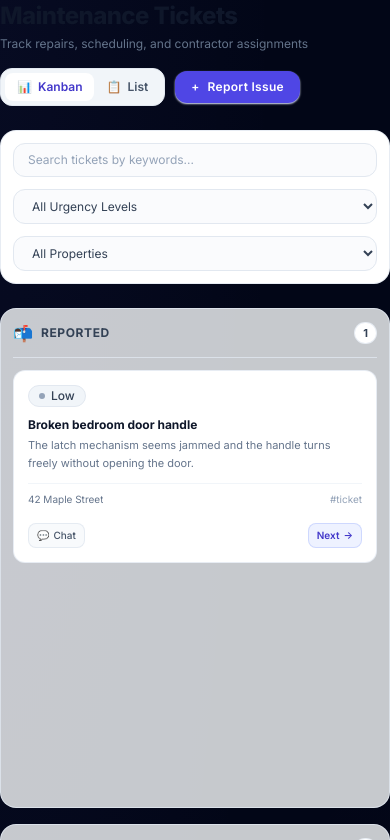
Test: Tickets, Media & Chat System Tests › TicketsPage View › renders tickets list and responds to search filter
The image size is (390, 840).
// Filter input
In the field with placeholder "Search tickets by keywords...": x=195, y=160 [13,143,377,177], type "non-existent-search-term-xyz"
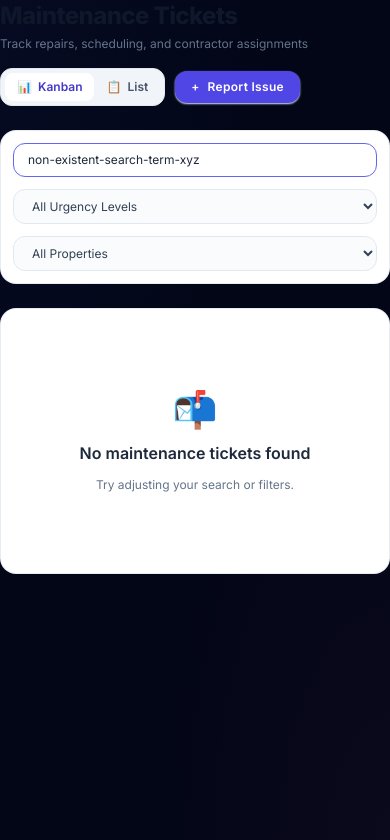
Expected: the text "No maintenance tickets found" is shown, [80,443,310,463]
